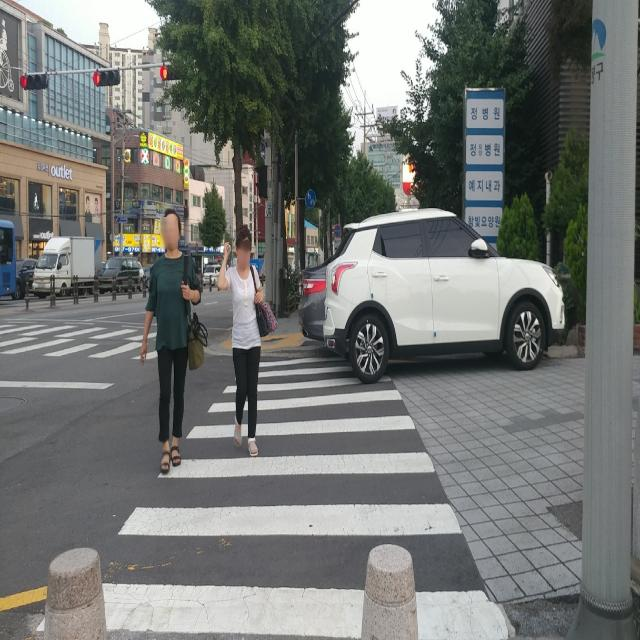횡단보도: (37, 356, 508, 640), (0, 308, 181, 363)
